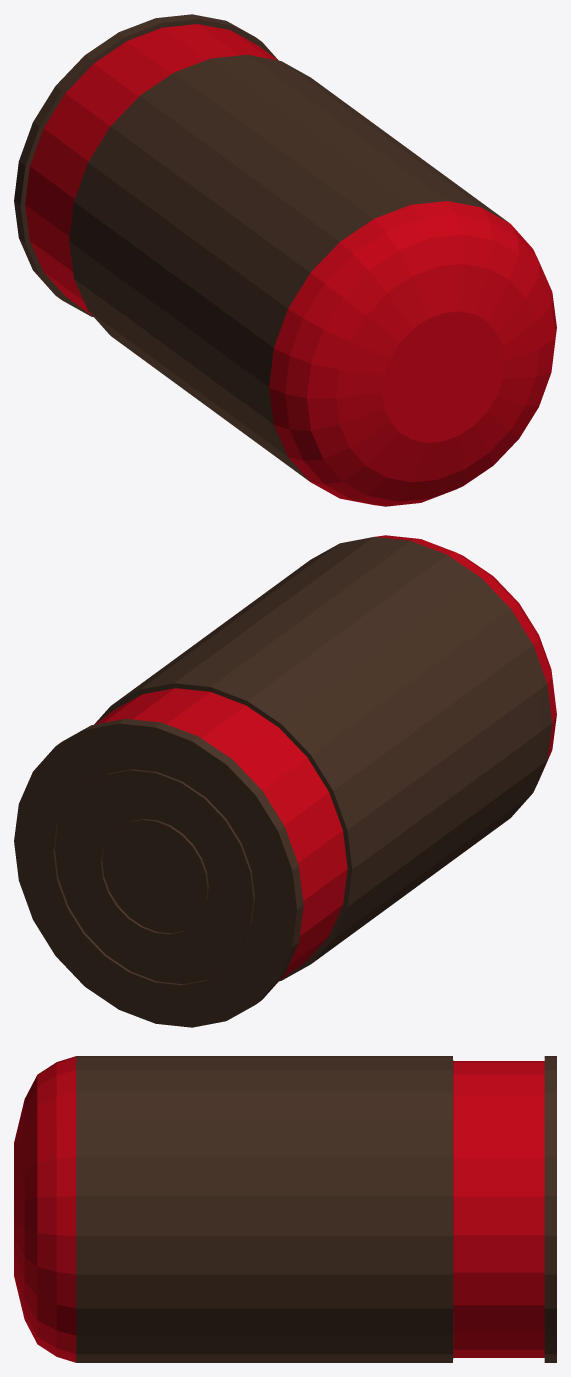
File: projectile_grenade.fbx
3 renders of one model, top to bottom at view 1: azimuth 30°, elevation 25°; view 2: azimuth 150°, elevation 25°; view 3: azimuth 270°, elevation 25°, orthographic. The views are drawn at different scales.
Parts seen in each view (by area): view 1: Grenade; view 2: Grenade; view 3: Grenade.
Boxes of the visible parts, left/top/right/bottom form: Grenade: left=14, top=14, right=556, bottom=506; Grenade: left=14, top=535, right=556, bottom=1027; Grenade: left=14, top=1056, right=556, bottom=1362.
Bounding box in the file's own units: 0.05 × 0.05 × 0.0881.
